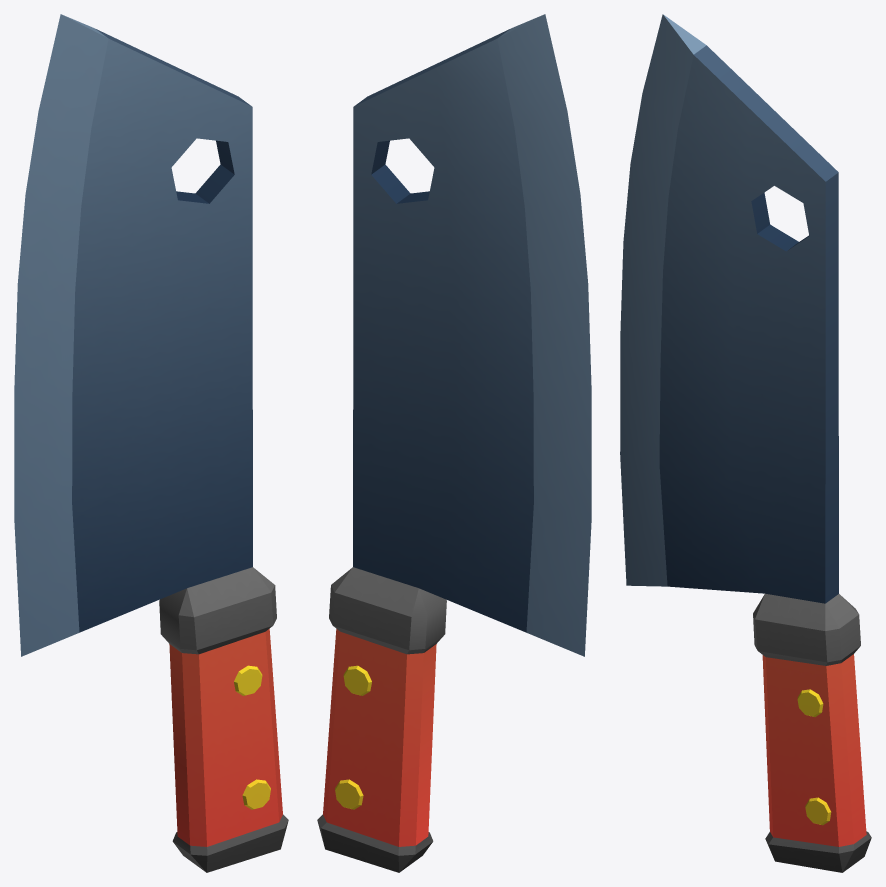
The model's file is Cleaver.glb.
3 renders of one model, left to right at view 1: azimuth 30°, elevation 25°; view 2: azimuth 150°, elevation 25°; view 3: azimuth 330°, elevation 25°, orthographic. The views are drawn at different scales.
Visible parts, largest first — view 1: Cube.002; view 2: Cube.002; view 3: Cube.002.
Boxes of the visible parts, bbox=[...] form: Cube.002: bbox=[14, 14, 288, 872]; Cube.002: bbox=[317, 14, 591, 872]; Cube.002: bbox=[620, 14, 871, 872].
Size of the model in its own units: 0.1869 by 0.5956 by 0.0408.
1 material, 1 textured.
